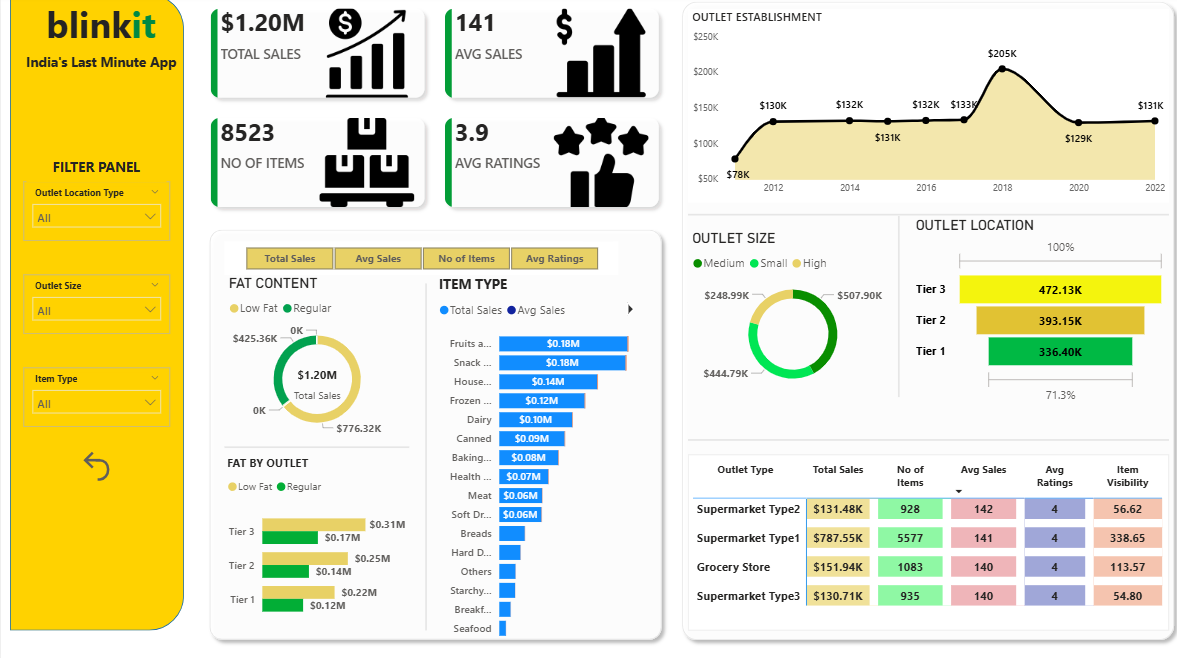

The dashboard page shown, as its layout file describes it:
{"tool":"powerbi","page":{"name":"Page 1","canvas":[1391,800],"ordinal":0},"visuals":[{"type":"shape","box":[10,0,205,750],"z":0},{"type":"textbox","box":[0,0,236,90],"z":1000},{"type":"textbox","box":[0,64,236,44],"z":2000},{"type":"cardVisual","fields":{"Data":["BlinkIT Grocery Data.Total Sales","BlinkIT Grocery Data.Avg Sales","BlinkIT Grocery Data.No of Items","BlinkIT Grocery Data.Avg Ratings"]},"box":[230,0,562.7,269],"z":3000},{"type":"shape","box":[236.2,269,550.4,501.1],"z":4000},{"type":"donutChart","title":"FAT CONTENT","fields":{"Y":["BlinkIT Grocery Data.Total Sales","BlinkIT Grocery Data.Avg Sales","BlinkIT Grocery Data.No of Items","BlinkIT Grocery Data.Avg Ratings"],"Category":["BlinkIT Grocery Data.Item Fat Content"]},"box":[262.9,330.6,217.7,197.2],"z":5000},{"type":"slicer","fields":{"Values":["Metrics.Metrics"]},"box":[262.9,291.6,464.1,39],"z":6000},{"type":"card","fields":{"Values":["BlinkIT Grocery Data.Total Sales"]},"box":[336.8,429.2,69.8,57.5],"z":7000},{"type":"clusteredBarChart","title":"FAT BY OUTLET","fields":{"Y":["BlinkIT Grocery Data.Total Sales"],"Category":["BlinkIT Grocery Data.Outlet Location Type"],"Series":["BlinkIT Grocery Data.Item Fat Content"]},"box":[260.8,542.2,219.7,207.4],"z":8000},{"type":"shape","box":[262.9,519.6,217.7,28.8],"z":9000},{"type":"shape","box":[488.8,340.9,22.6,408.7],"z":10000},{"type":"barChart","title":"ITEM TYPE","fields":{"Y":["BlinkIT Grocery Data.Total Sales","BlinkIT Grocery Data.Avg Sales","BlinkIT Grocery Data.No of Items","BlinkIT Grocery Data.Avg Ratings"],"Category":["BlinkIT Grocery Data.Item Type"]},"box":[511.4,330.6,250.5,439.5],"z":11000},{"type":"shape","box":[792.7,0,597.6,770.1],"z":12000},{"type":"lineChart","title":"OUTLET ESTABLISHMENT","fields":{"Category":["BlinkIT Grocery Data.Outlet Establishment Year"],"Y":["BlinkIT Grocery Data.Total Sales"]},"box":[809.1,18.5,566.8,228],"z":13000},{"type":"shape","box":[809.1,246.4,566.8,28.8],"z":14000},{"type":"donutChart","title":"OUTLET SIZE","fields":{"Y":["BlinkIT Grocery Data.Total Sales"],"Category":["BlinkIT Grocery Data.Outlet Size"]},"box":[809.1,277.2,246.4,197.2],"z":15000},{"type":"shape","box":[1045.3,260.8,26.7,213.6],"z":16000},{"type":"funnel","title":"OUTLET LOCATION","fields":{"Y":["Sum(BlinkIT Grocery Data.Sales)"],"Category":["BlinkIT Grocery Data.Outlet Location Type"]},"box":[1072,260.8,303.9,225.9],"z":17000},{"type":"shape","box":[809.1,509.3,566.8,32.9],"z":18000},{"type":"pivotTable","fields":{"Rows":["BlinkIT Grocery Data.Outlet Type"],"Values":["BlinkIT Grocery Data.Total Sales","BlinkIT Grocery Data.No of Items","BlinkIT Grocery Data.Avg Sales","BlinkIT Grocery Data.Avg Ratings","Sum(BlinkIT Grocery Data.Item Visibility)"]},"box":[809.1,542.2,566.8,207.4],"z":19000},{"type":"slicer","fields":{"Values":["BlinkIT Grocery Data.Outlet Location Type"]},"box":[26.7,221.8,172.5,69.8],"z":19001},{"type":"slicer","fields":{"Values":["BlinkIT Grocery Data.Outlet Size"]},"box":[26.7,330.6,172.5,69.8],"z":19002},{"type":"slicer","fields":{"Values":["BlinkIT Grocery Data.Item Type"]},"box":[26.7,439.5,172.5,69.8],"z":19003},{"type":"textbox","title":"FILTER PANEL","box":[30.8,193,164.3,28.8],"z":19004},{"type":"actionButton","box":[90.4,534,47.2,45.2],"z":19005}]}

Visuals, with their boxes in screenshot pixels (x1, y1, x2, y2), scaled from the page's 1391x800 canvas onto the 1177x658 screenshot:
shape: x1=8 y1=0 x2=182 y2=617
textbox: x1=0 y1=0 x2=200 y2=74
textbox: x1=0 y1=53 x2=200 y2=89
cardVisual - BlinkIT Grocery Data.Total Sales x BlinkIT Grocery Data.Avg Sales: x1=195 y1=0 x2=671 y2=221
shape: x1=200 y1=221 x2=666 y2=633
"FAT CONTENT" donutChart: x1=222 y1=272 x2=407 y2=434
slicer - Metrics.Metrics: x1=222 y1=240 x2=615 y2=272
card - BlinkIT Grocery Data.Total Sales: x1=285 y1=353 x2=344 y2=400
"FAT BY OUTLET" clusteredBarChart: x1=221 y1=446 x2=407 y2=617
shape: x1=222 y1=427 x2=407 y2=451
shape: x1=414 y1=280 x2=433 y2=617
"ITEM TYPE" barChart: x1=433 y1=272 x2=645 y2=633
shape: x1=671 y1=0 x2=1176 y2=633
"OUTLET ESTABLISHMENT" lineChart: x1=685 y1=15 x2=1164 y2=203
shape: x1=685 y1=203 x2=1164 y2=226
"OUTLET SIZE" donutChart: x1=685 y1=228 x2=893 y2=390
shape: x1=884 y1=215 x2=907 y2=390
"OUTLET LOCATION" funnel: x1=907 y1=215 x2=1164 y2=400
shape: x1=685 y1=419 x2=1164 y2=446
pivotTable - BlinkIT Grocery Data.Outlet Type x BlinkIT Grocery Data.Total Sales: x1=685 y1=446 x2=1164 y2=617
slicer - BlinkIT Grocery Data.Outlet Location Type: x1=23 y1=182 x2=169 y2=240
slicer - BlinkIT Grocery Data.Outlet Size: x1=23 y1=272 x2=169 y2=329
slicer - BlinkIT Grocery Data.Item Type: x1=23 y1=361 x2=169 y2=419
"FILTER PANEL" textbox: x1=26 y1=159 x2=165 y2=182
actionButton: x1=76 y1=439 x2=116 y2=476
